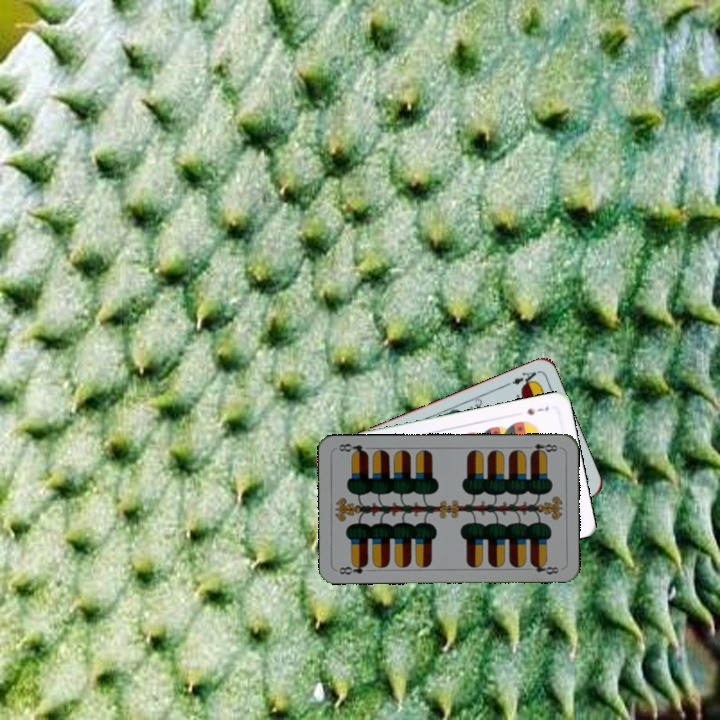E8: (522, 440, 562, 457), (335, 559, 370, 577)
EA: (501, 367, 540, 390)
S7: (523, 402, 551, 418)
